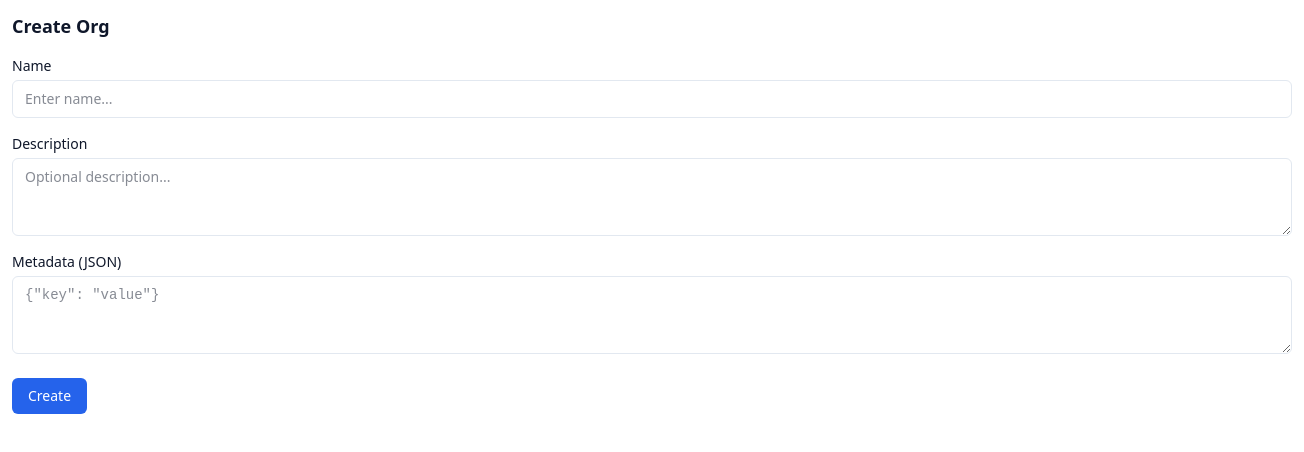
Test: EntityForm › validates metadata is valid JSON
The width and height of the screenshot is (1304, 452).
Type "Test" into the field with test id "entity-name-input" at (652, 99), box [12,80,1292,118]
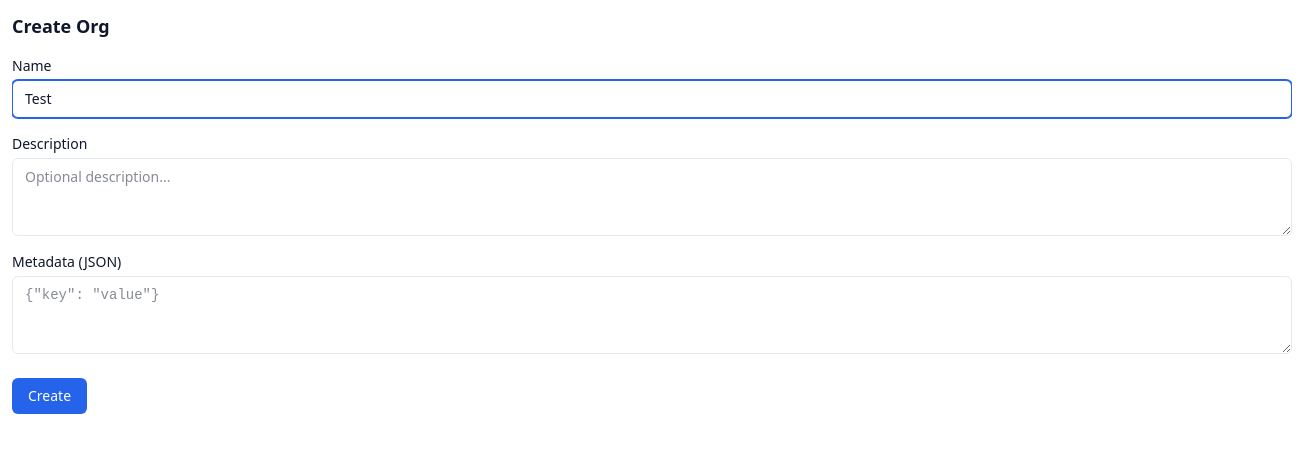
Type "invalid json" into the text box with test id "entity-metadata-input" at (652, 315), box [12,276,1292,354]
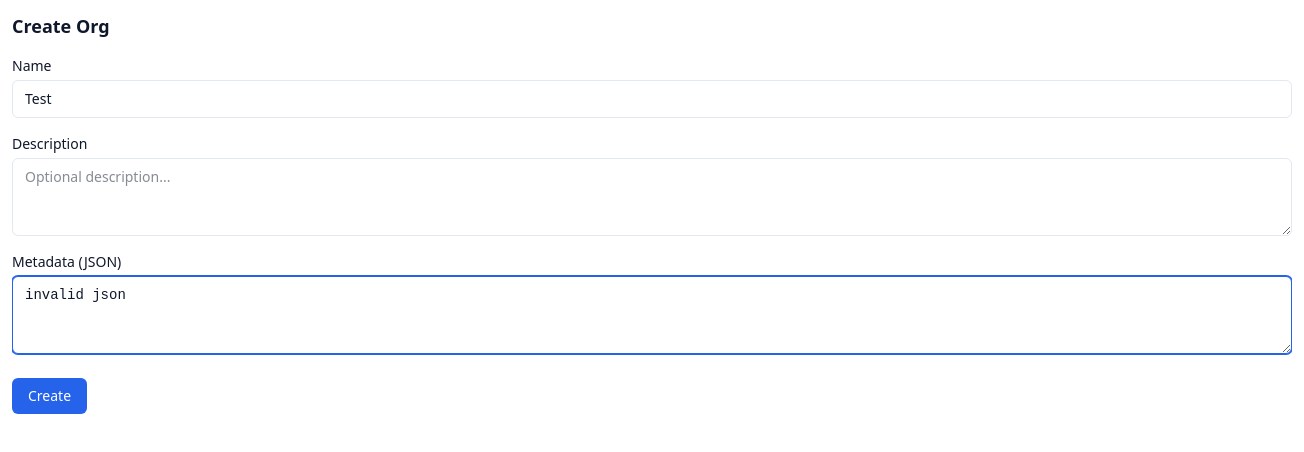
Click the button with test id "entity-submit-btn" at (50, 396), box [12,378,87,414]
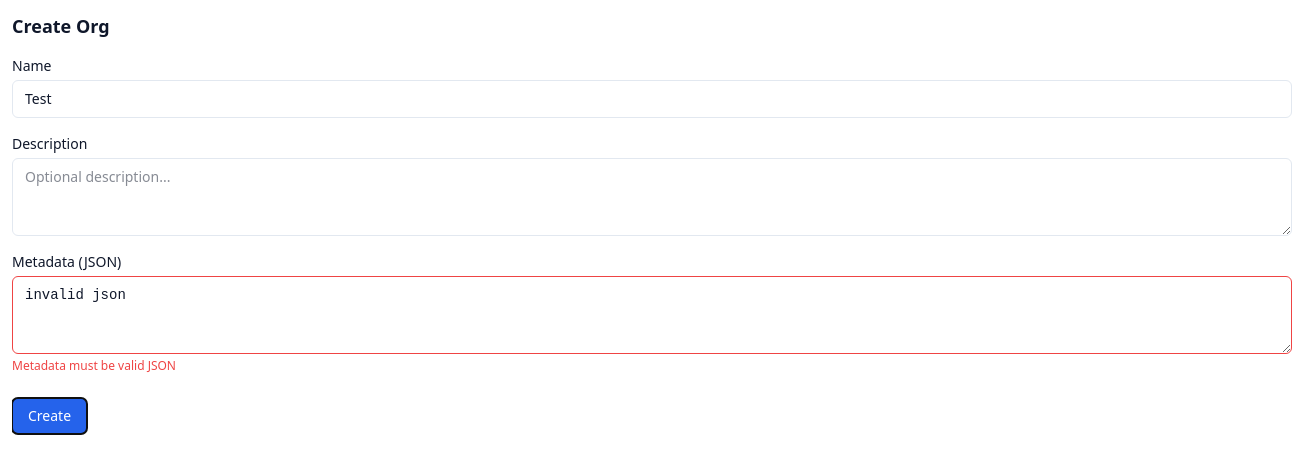
Result: the text with test id "metadata-error" reads "Metadata must be valid JSON" at [12,357,176,374]
